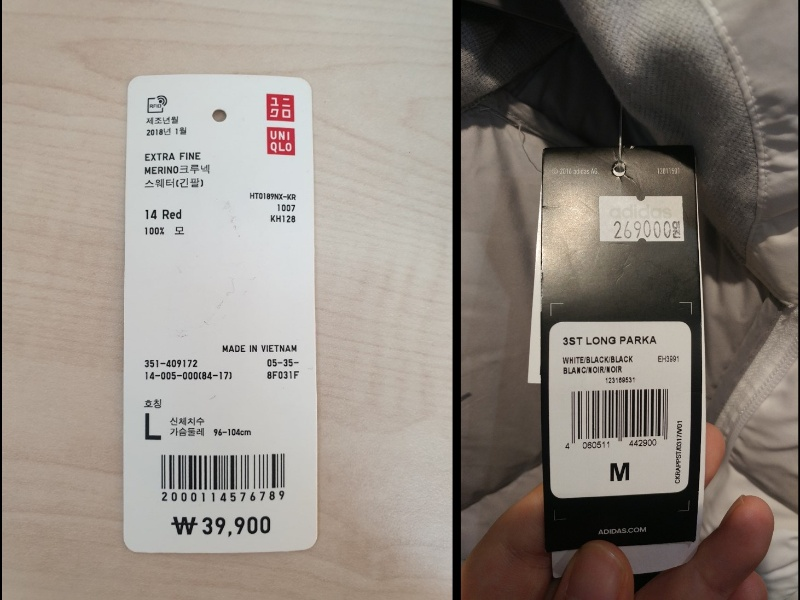tag: (122, 74, 318, 554), (542, 142, 699, 546)
text: (169, 510, 275, 540), (159, 489, 288, 505), (559, 331, 658, 348), (610, 218, 683, 240), (142, 367, 235, 384), (167, 425, 256, 439), (143, 163, 212, 178), (558, 352, 635, 365), (218, 342, 297, 354), (142, 177, 207, 190), (560, 364, 624, 376), (142, 356, 201, 369), (142, 222, 188, 238), (248, 189, 297, 203), (142, 206, 186, 221), (143, 152, 203, 161), (140, 126, 188, 137), (263, 356, 302, 369), (266, 211, 301, 225), (169, 415, 207, 427), (264, 369, 301, 381), (604, 374, 638, 385), (580, 439, 612, 450), (627, 437, 659, 448), (142, 397, 165, 412), (144, 116, 180, 125), (274, 200, 298, 213), (654, 353, 682, 364)
